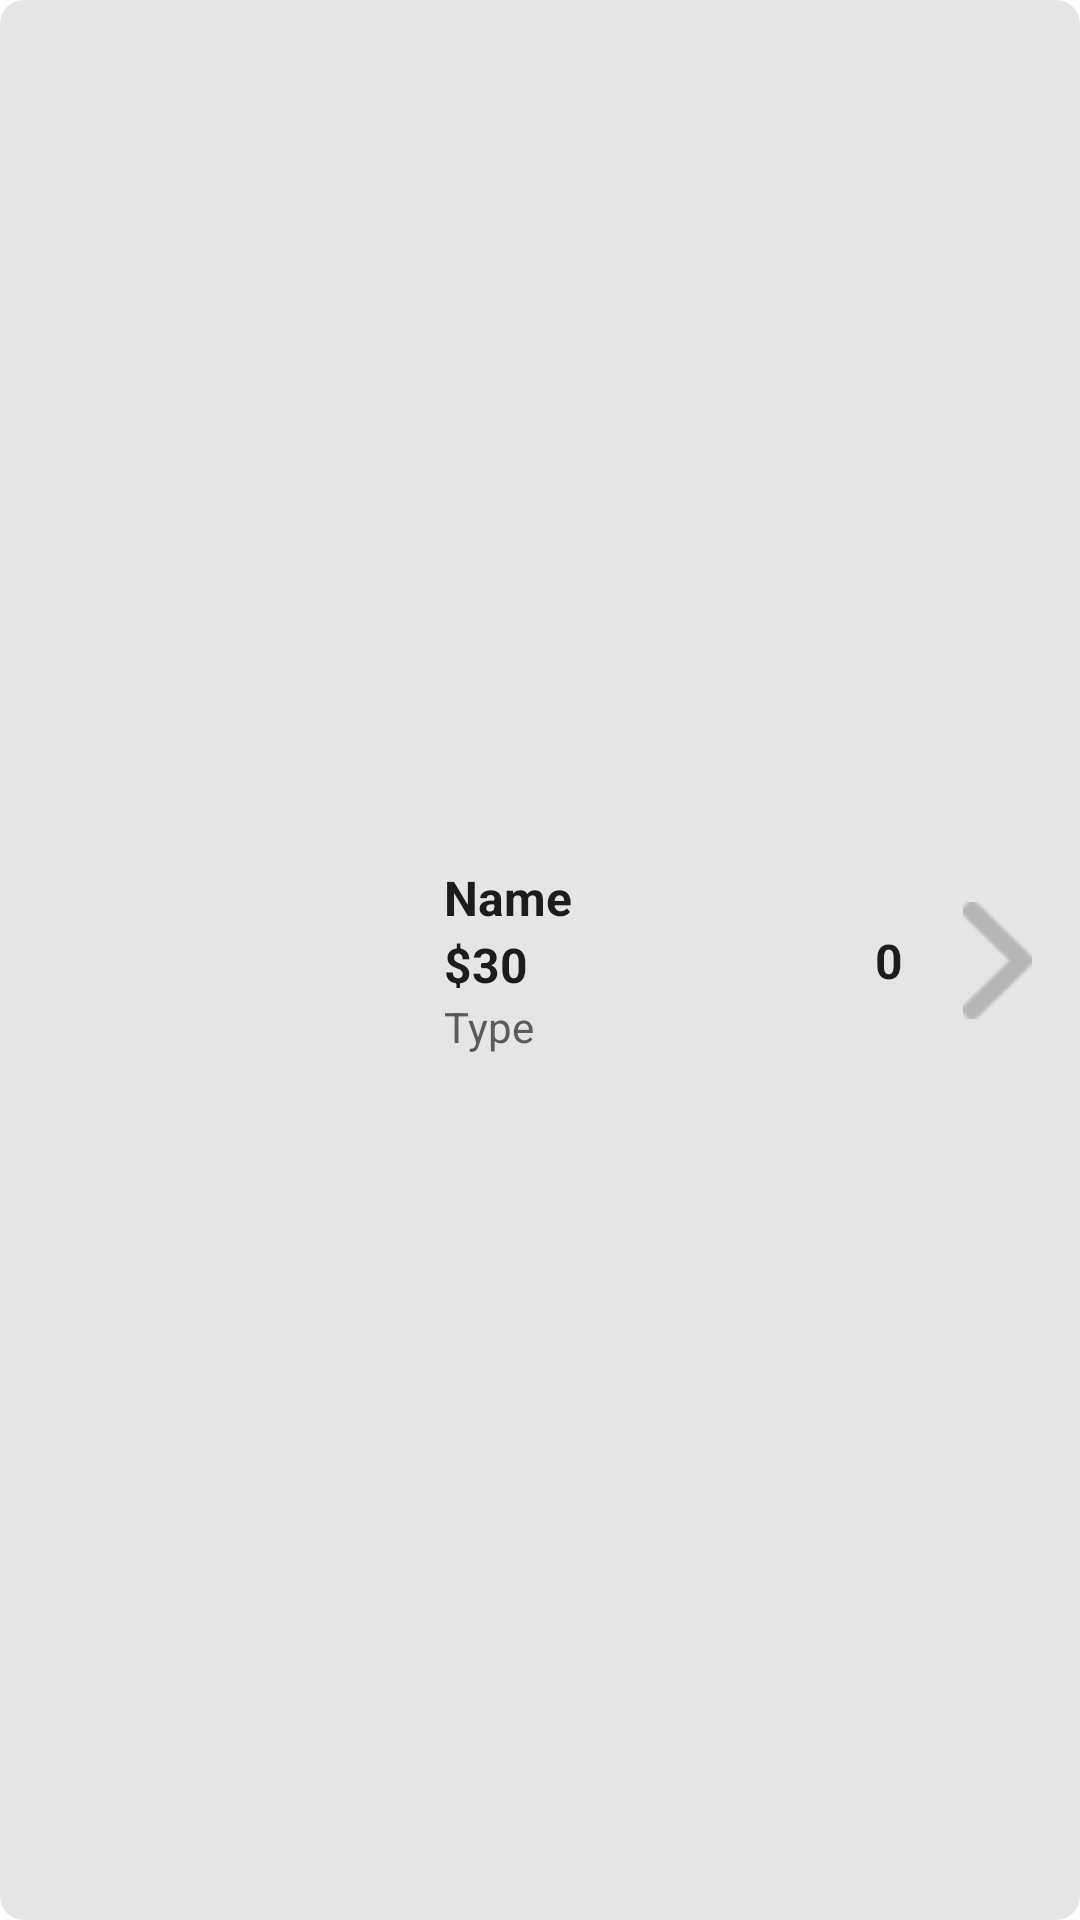

Screen size 1080*1920. Icon name, then its box in pixels as detection(x1, y1, x2, y2):
arrow right: detection(963, 902, 1032, 1019)
